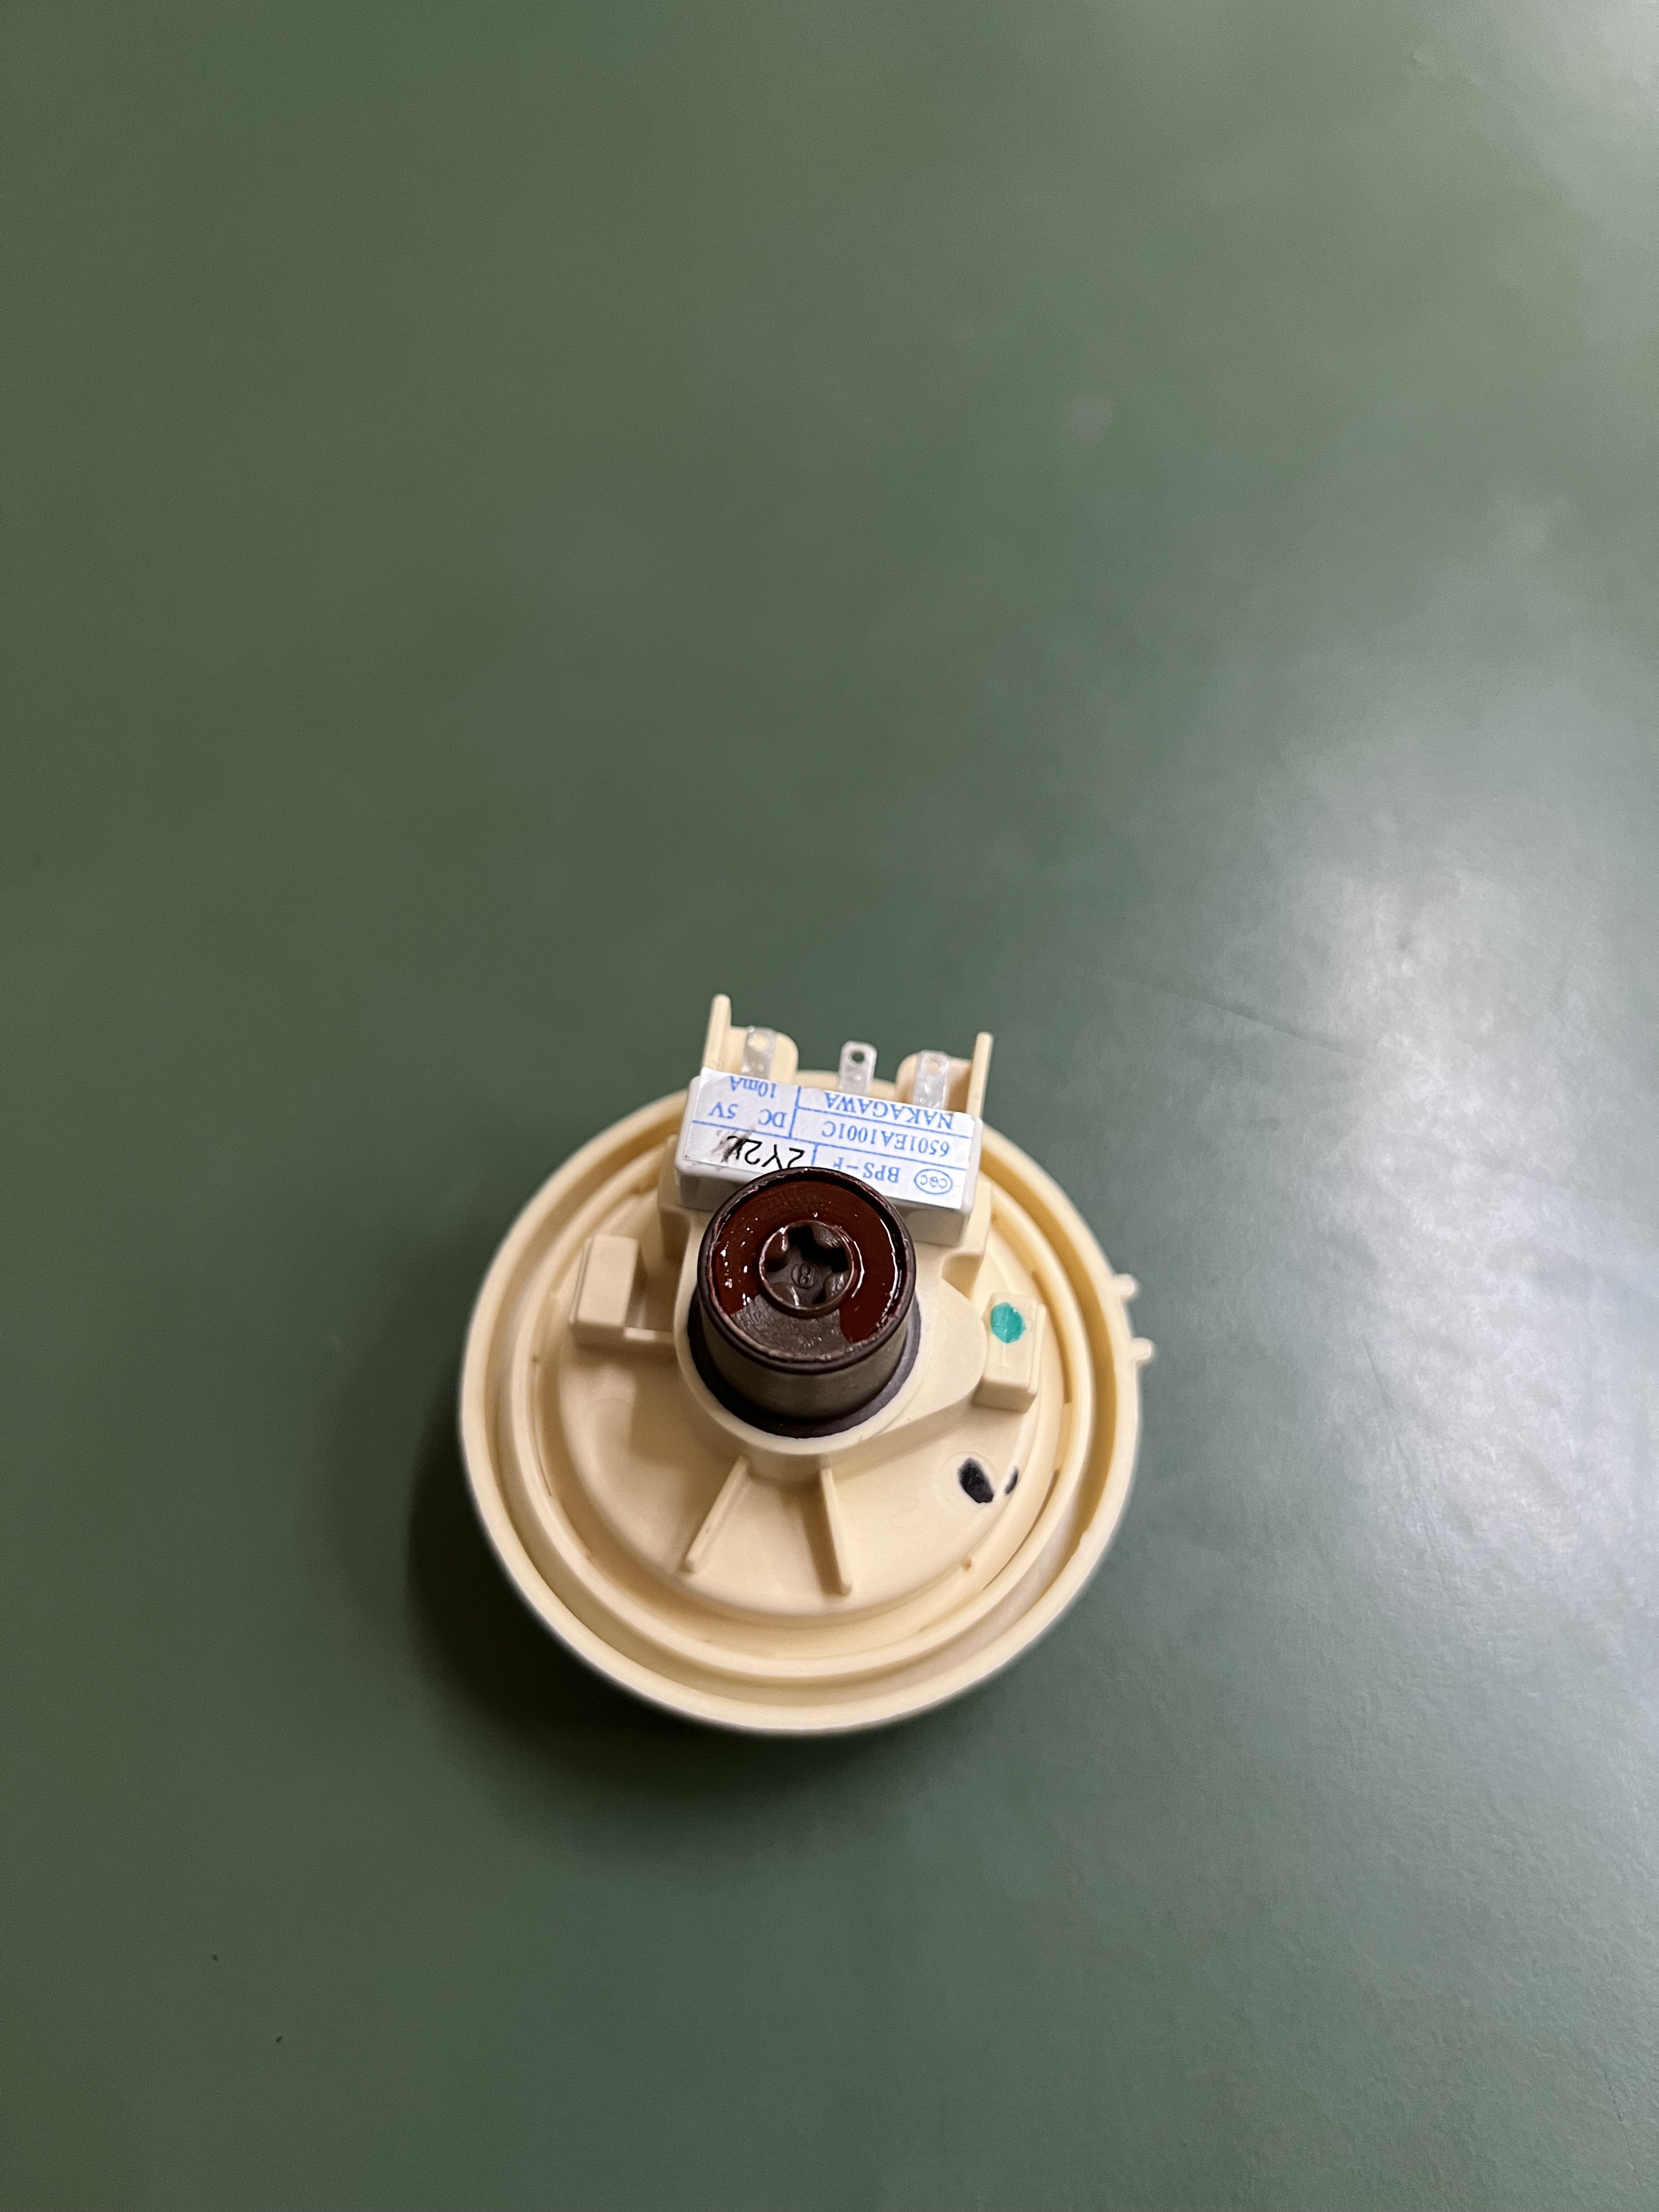pressure_sensor: (441, 988, 1159, 1773)
